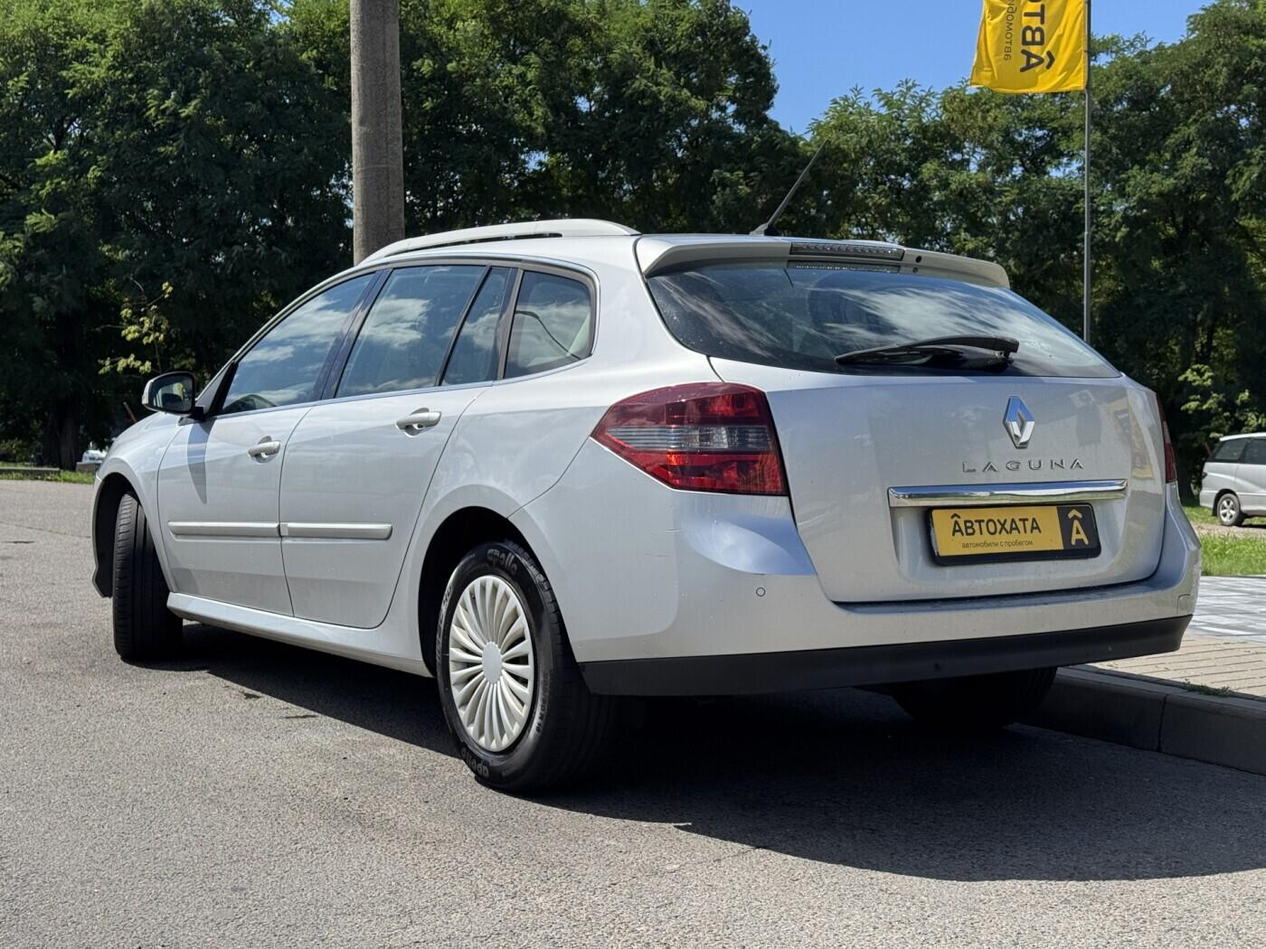Laguna_2010-2015: (83, 217, 1217, 790)
